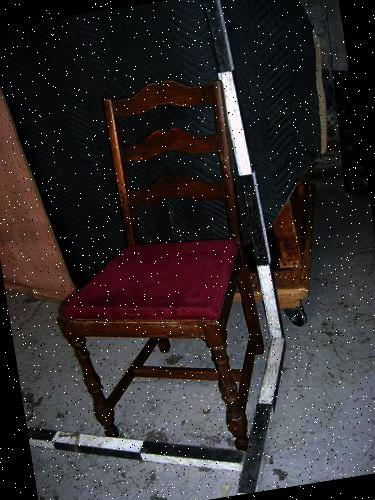Silla: (36, 63, 282, 467)
